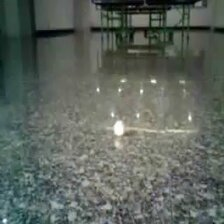w: (112, 118, 126, 137)
